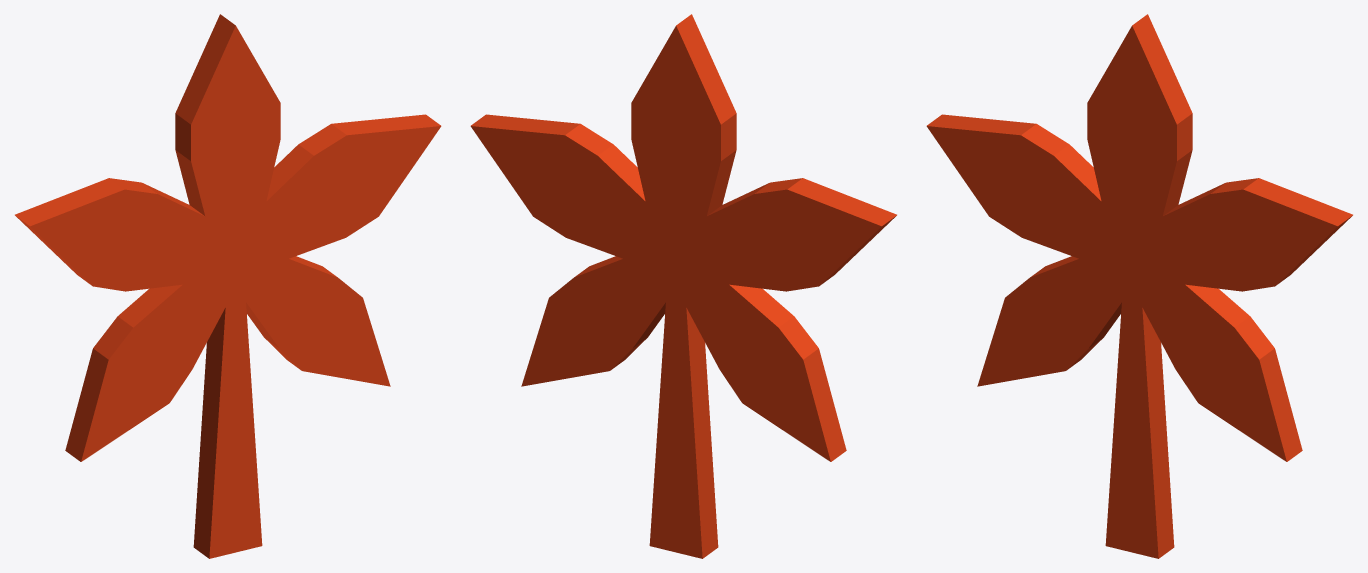
File: MapleLeaf.fbx
3 views of the same model, side by side, from view 1: azimuth 30°, elevation 25°; view 2: azimuth 150°, elevation 25°; view 3: azimuth 330°, elevation 25° (orthographic).
Visible parts, largest first — view 1: Plane; view 2: Plane; view 3: Plane.
Part boxes in pixels (left/top/right/bottom): Plane: left=15, top=14, right=441, bottom=558; Plane: left=470, top=14, right=896, bottom=558; Plane: left=926, top=14, right=1352, bottom=558.
Bounding box in the file's own units: 202 × 247 × 13.37.
